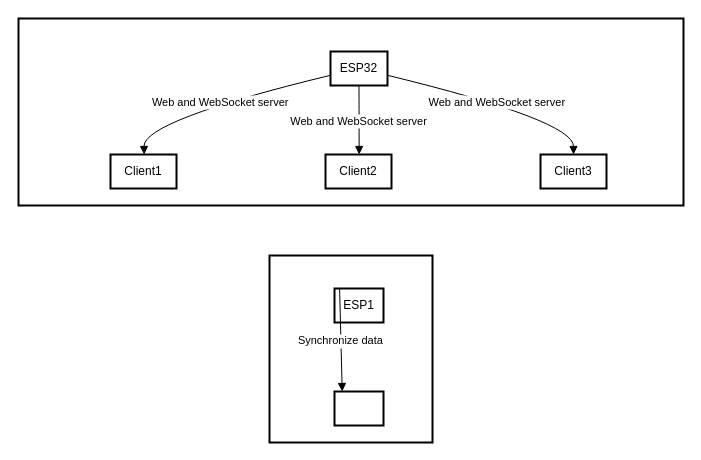
This 701x460 diagram has some shape labels left out. The shapes that lost their labels are listed below. From the top down, each one's box as (x1, y1, x2, y2) in pixels, then its label:
(17, 17, 684, 206): Cluster: ESP32
(268, 254, 433, 443): Cluster: 2 esp
(333, 390, 384, 426): ESP2
